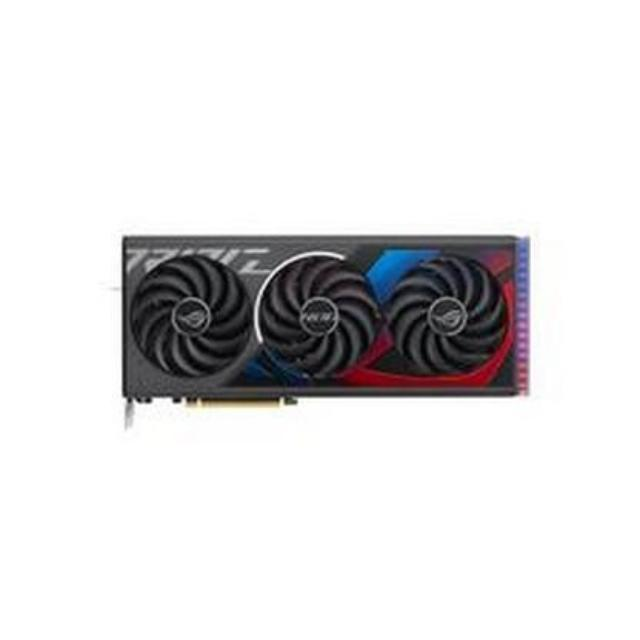GPU: (118, 224, 538, 418)
